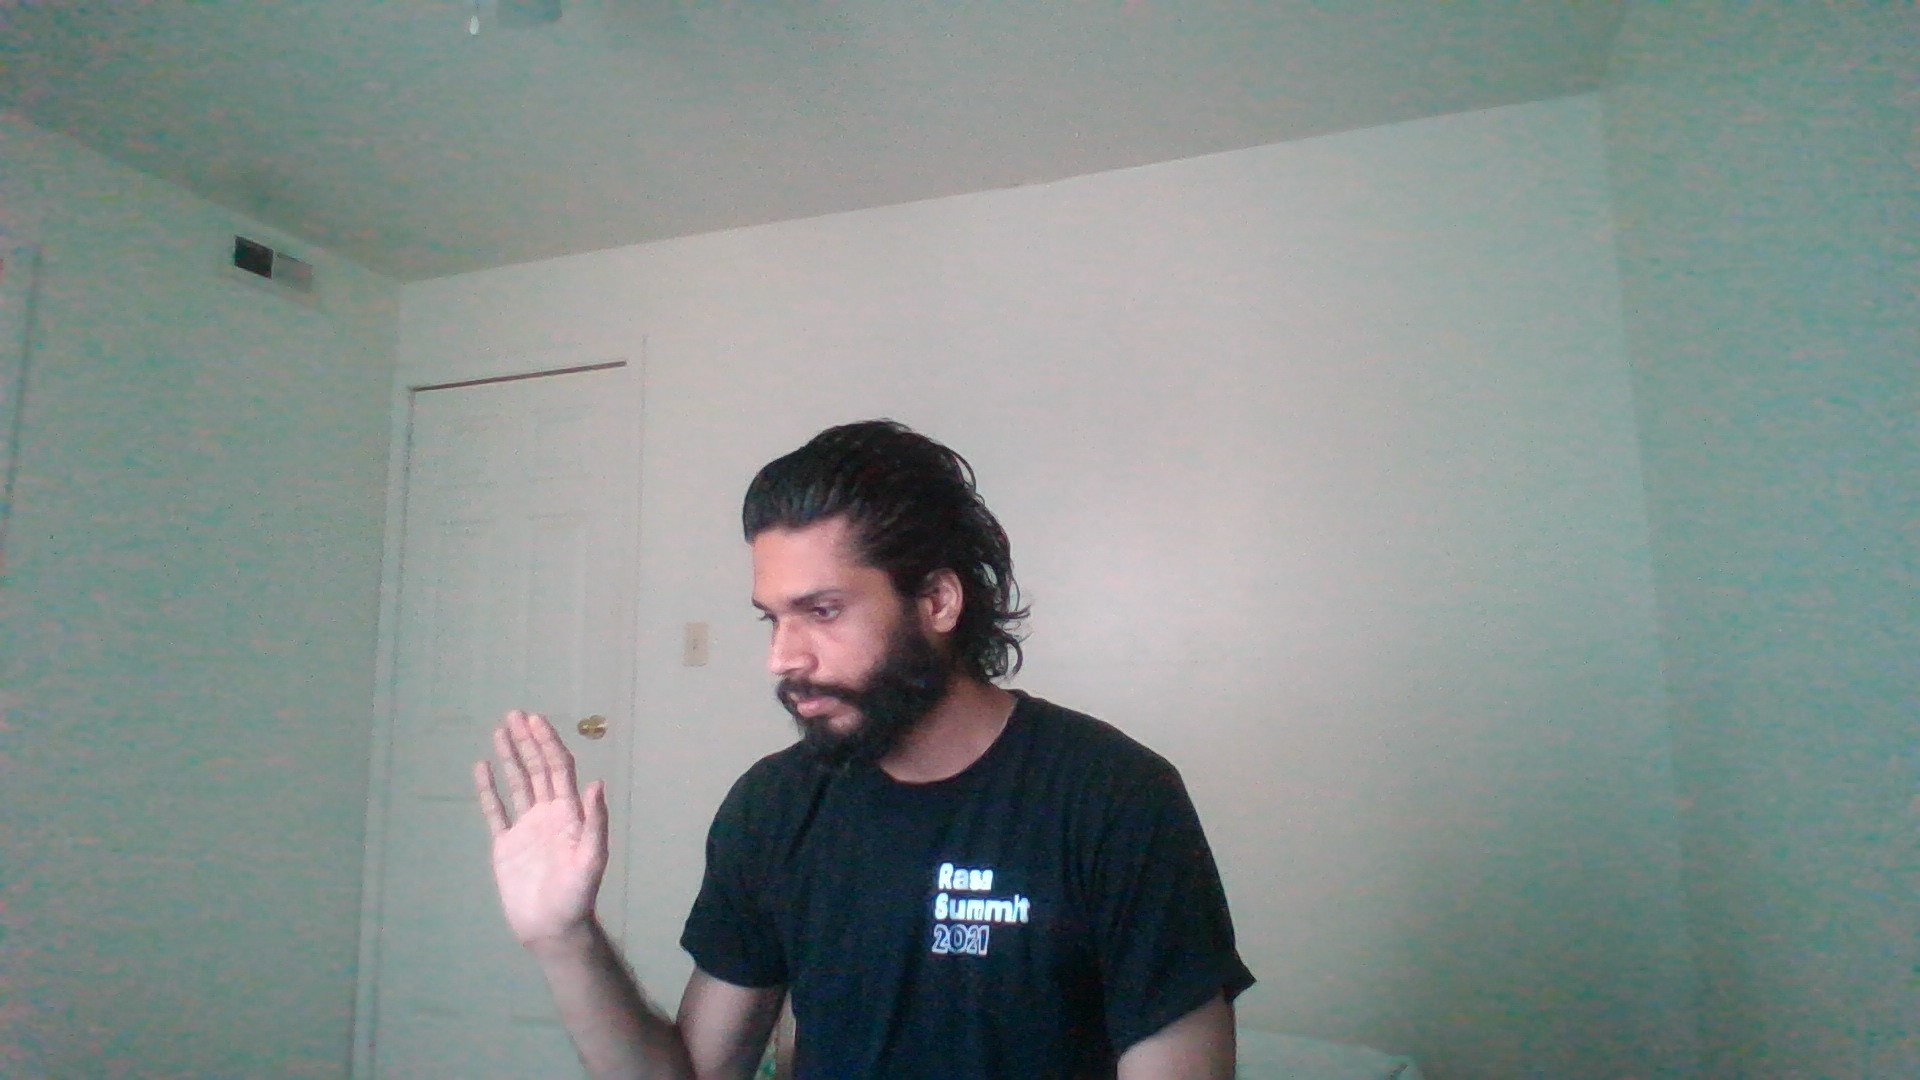Hello: (415, 700, 688, 976)
